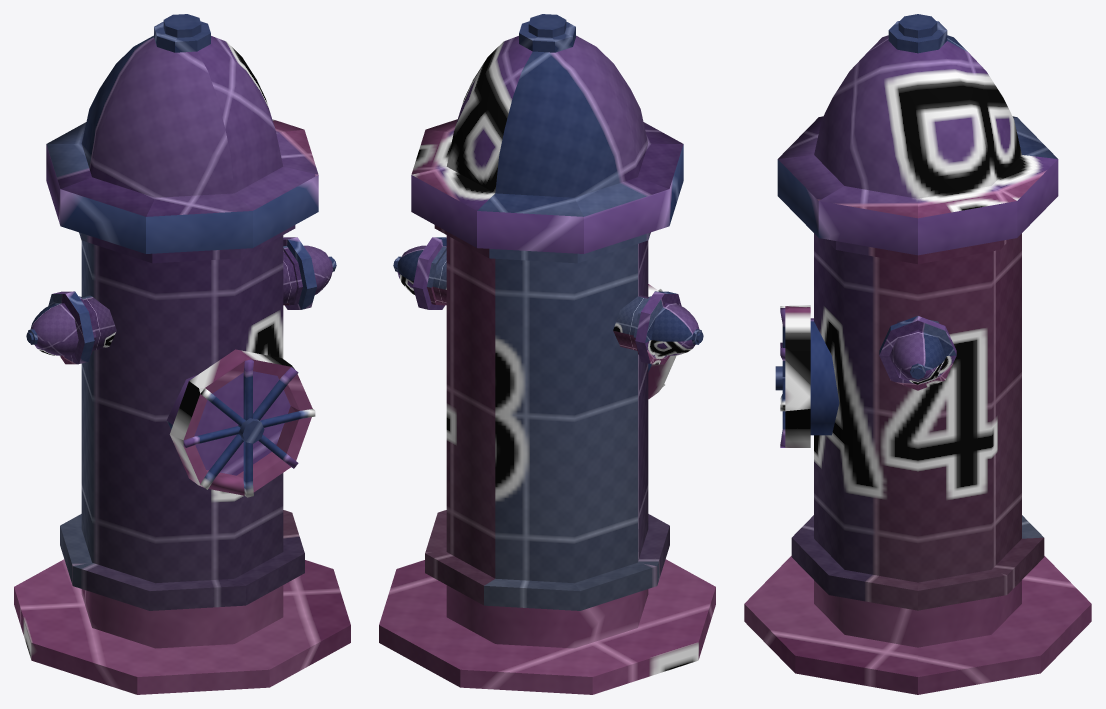
File: Hidrante.fbx
The picture shows the model from 3 angles, left to right: view 1: azimuth 30°, elevation 25°; view 2: azimuth 150°, elevation 25°; view 3: azimuth 270°, elevation 25°; orthographic projection.
Visible parts, largest first — view 1: Hidrante; view 2: Hidrante; view 3: Hidrante.
Part boxes in pixels (left/top/right/bottom): Hidrante: left=14, top=14, right=350, bottom=694; Hidrante: left=379, top=14, right=715, bottom=694; Hidrante: left=744, top=14, right=1091, bottom=694.
Size of the model in its own units: 88.07 by 166 by 87.28.
